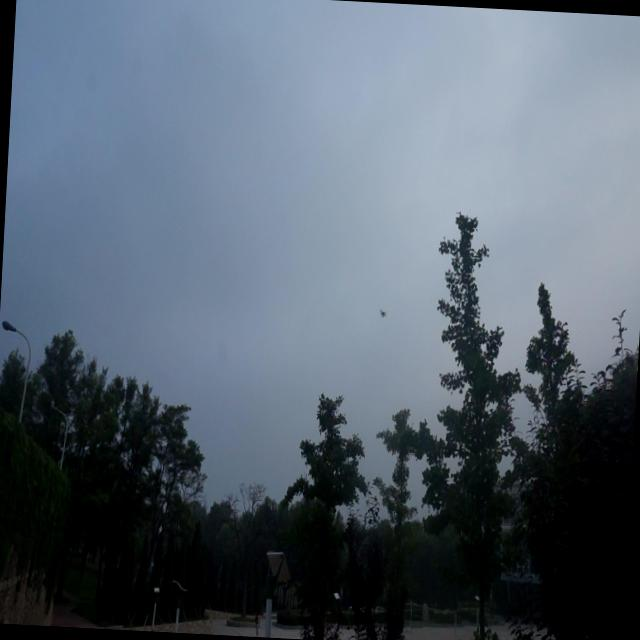drone: (377, 306, 389, 323)
